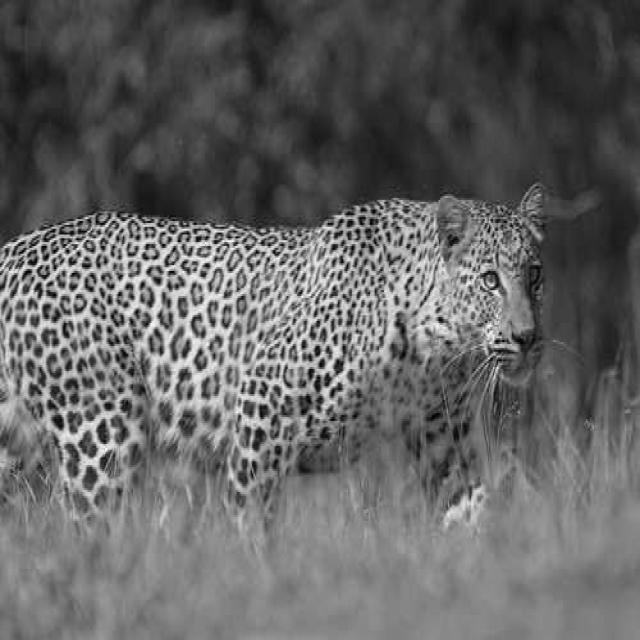Leopard: (1, 171, 640, 584)
